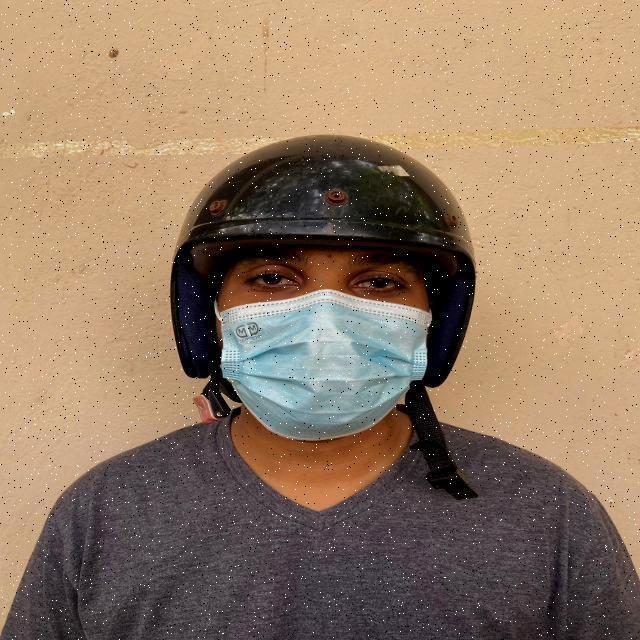helmet: (170, 134, 478, 501)
